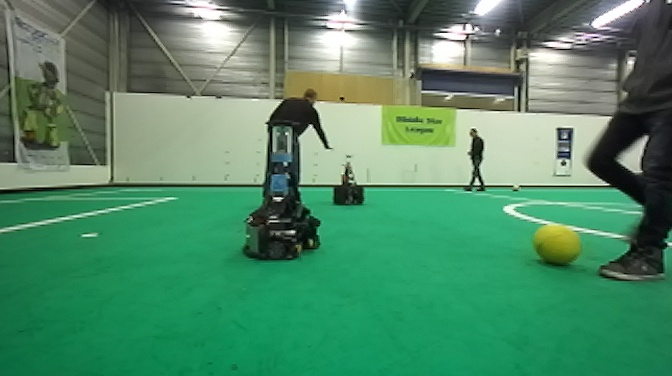ball: (533, 221, 581, 269), (509, 181, 523, 194)
human: (580, 1, 672, 284), (260, 87, 335, 216), (465, 126, 493, 192)
robot: (239, 119, 324, 262), (331, 152, 366, 207)
